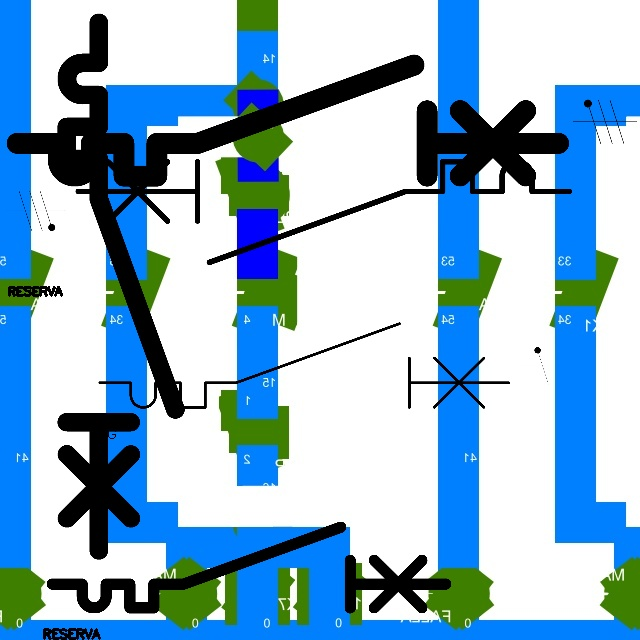interruptor_termomagnetico: (3, 51, 573, 190), (53, 9, 189, 563), (65, 149, 582, 275), (89, 313, 519, 418), (42, 517, 456, 618)
